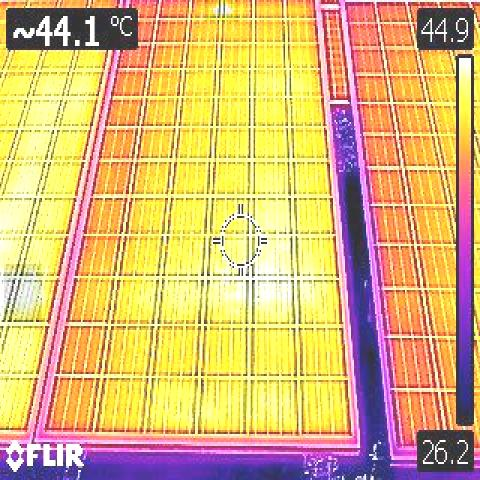fault: (4, 264, 42, 322), (251, 274, 295, 315), (205, 0, 238, 22)
